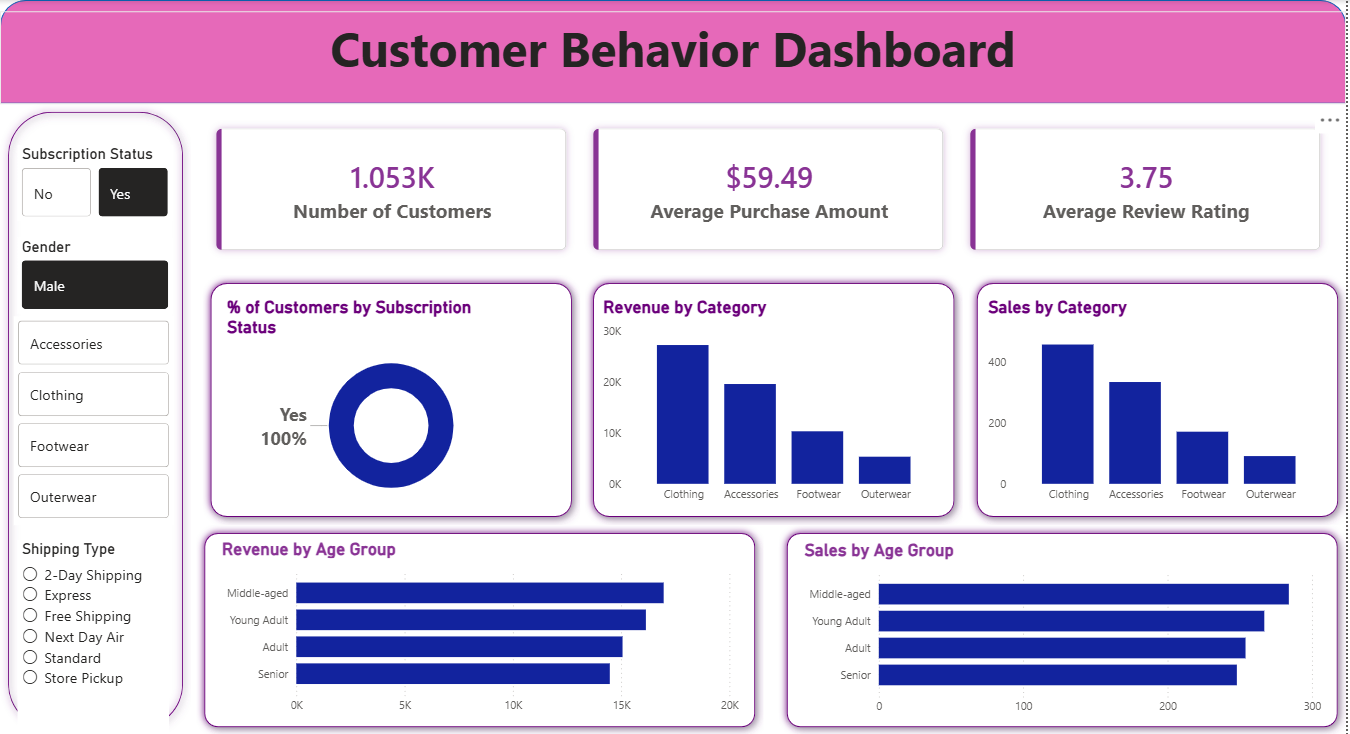

The page's visual inventory and layout, read from the dashboard file:
{"tool":"powerbi","page":{"name":"Page 1","canvas":[1500,820],"ordinal":0},"visuals":[{"type":"cardVisual","fields":{"Data":["public customer.Number of Customers","public customer.Average Purchase Amount","public customer.Average Review Rating"]},"box":[212.9,115.3,1286.5,191.6],"z":2000},{"type":"shape","box":[218.3,585.6,631.7,234.2],"z":2500,"group":"g1"},{"type":"shape","box":[0,0,1499.9,115.6],"z":3000},{"type":"textbox","box":[0,12.4,1499.4,102.9],"z":4000},{"type":"shape","box":[225.4,307,420.5,278.6],"z":5000},{"type":"donutChart","title":"% of Customers by Subscription Status","fields":{"Category":["public customer.subscription_status"],"Y":["CountNonNull(public customer.customer_id)"]},"box":[248.4,331.8,376.2,237.8],"z":6000},{"type":"shape","box":[1078.9,307,420.5,278.6],"z":7000},{"type":"shape","box":[652.1,307,420.5,278.6],"z":8000},{"type":"clusteredColumnChart","title":"Revenue by Category","fields":{"Y":["Sum(public customer.purchase_amount)"],"Category":["public customer.category"]},"box":[667.2,331.8,385.1,237.8],"z":9000},{"type":"clusteredColumnChart","title":"Sales by Category","fields":{"Y":["CountNonNull(public customer.customer_id)"],"Category":["public customer.category"]},"box":[1096.6,331.8,385.1,237.8],"z":10000},{"type":"shape","box":[0,115.3,212.9,704.5],"z":11000},{"type":"advancedSlicerVisual","fields":{"Values":["public customer.subscription_status"]},"box":[19.5,161.5,173.9,85.2],"z":12000},{"type":"advancedSlicerVisual","fields":{"Values":["public customer.gender"]},"box":[19.5,264.4,173.9,85.2],"z":13000},{"type":"advancedSlicerVisual","fields":{"Values":["public customer.category"]},"box":[15.3,352.3,178.3,232.6],"z":14000},{"type":"listSlicer","fields":{"Values":["public customer.shipping_type"]},"box":[19.5,601.6,168.5,217.3],"z":15000},{"type":"shape","box":[867.7,585.6,631.7,234.2],"z":16000},{"type":"clusteredBarChart","title":"Sales by Age Group","fields":{"Y":["CountNonNull(public customer.customer_id)"],"Category":["public customer.age_group"]},"box":[890.8,601.5,585.6,204.1],"z":17000},{"type":"clusteredBarChart","title":"Revenue by Age Group","fields":{"Y":["Sum(public customer.purchase_amount)"],"Category":["public customer.age_group"]},"box":[241.4,601.6,585.6,204.1],"z":17500,"group":"g1"},{"type":"group","id":"g1","title":"Group 1","box":[218.3,585.6,631.7,234.2],"z":17501}]}

Visuals, with their boxes in screenshot pixels (x1, y1, x2, y2), scaled from the page's 1500x820 canvas onto the 1350x734 screenshot:
cardVisual - public customer.Number of Customers x public customer.Average Purchase Amount: l=192, t=103, r=1349, b=275
shape: l=196, t=524, r=765, b=733
shape: l=0, t=0, r=1349, b=103
textbox: l=0, t=11, r=1349, b=103
shape: l=203, t=275, r=581, b=524
"% of Customers by Subscription Status" donutChart: l=224, t=297, r=562, b=510
shape: l=971, t=275, r=1349, b=524
shape: l=587, t=275, r=965, b=524
"Revenue by Category" clusteredColumnChart: l=600, t=297, r=947, b=510
"Sales by Category" clusteredColumnChart: l=987, t=297, r=1334, b=510
shape: l=0, t=103, r=192, b=733
advancedSlicerVisual - public customer.subscription_status: l=18, t=145, r=174, b=221
advancedSlicerVisual - public customer.gender: l=18, t=237, r=174, b=313
advancedSlicerVisual - public customer.category: l=14, t=315, r=174, b=524
listSlicer - public customer.shipping_type: l=18, t=539, r=169, b=733
shape: l=781, t=524, r=1349, b=733
"Sales by Age Group" clusteredBarChart: l=802, t=538, r=1329, b=721
"Revenue by Age Group" clusteredBarChart: l=217, t=539, r=744, b=721
"Group 1" group: l=196, t=524, r=765, b=733
